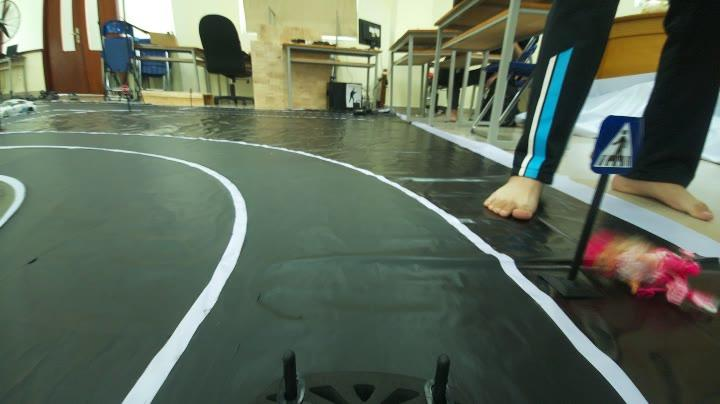crosswalk: (590, 110, 643, 175)
